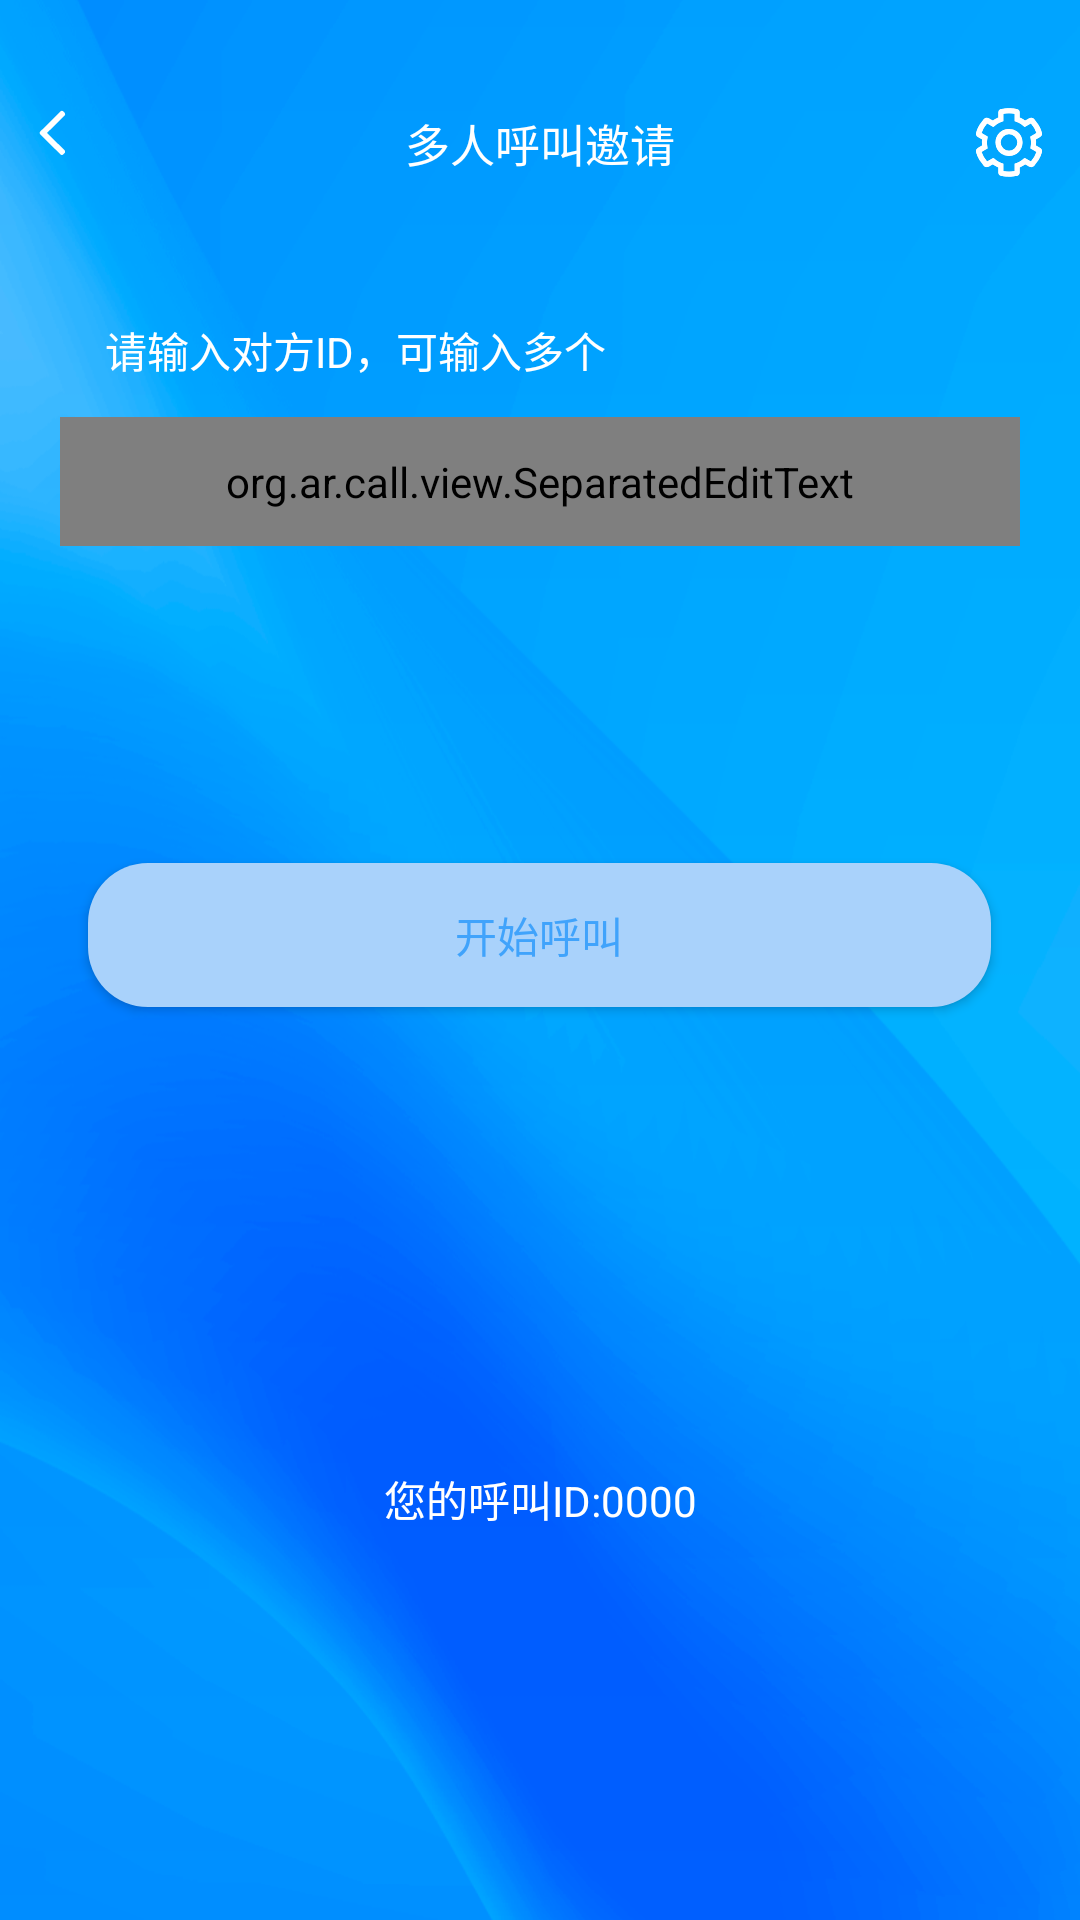

Where icons sit on this 1080x1920 app screen, as (x1, y1, x2, y2):
setting: (976, 108, 1042, 177)
